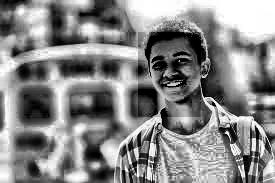happy: (138, 33, 201, 118)
